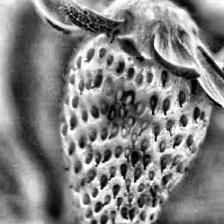Anthracnose Fruit Rot: (94, 76, 158, 148)
